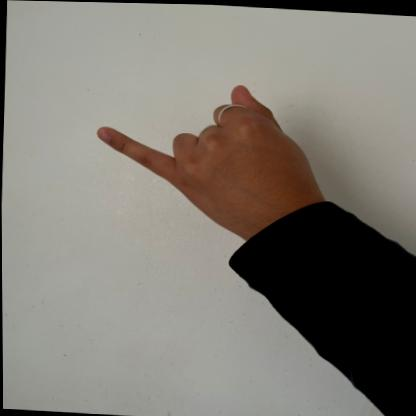J: (86, 73, 327, 244)
